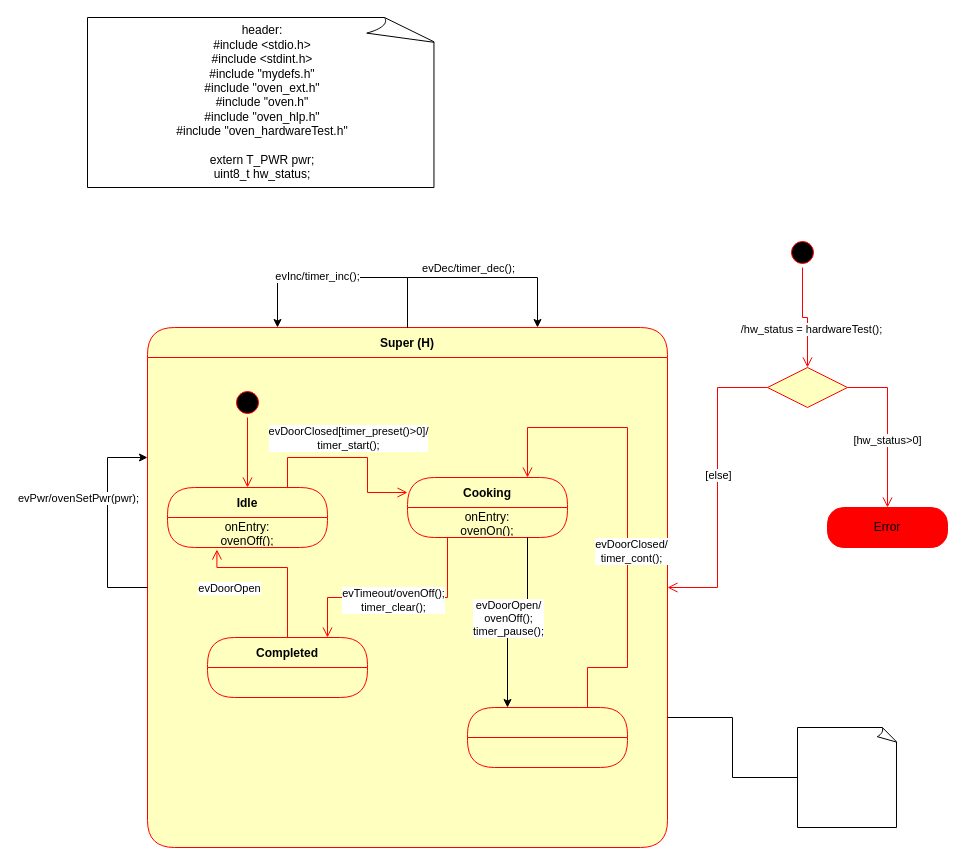
Some shapes in this 965 by 865 pixel diagram are drawn without their labels. Here are the shapes that lost their labels. From the top down, the centre of each, then its label:
(x=807, y=387): Condition
(x=547, y=737): CookingPause
(x=847, y=777): onEntry: //just a comment
